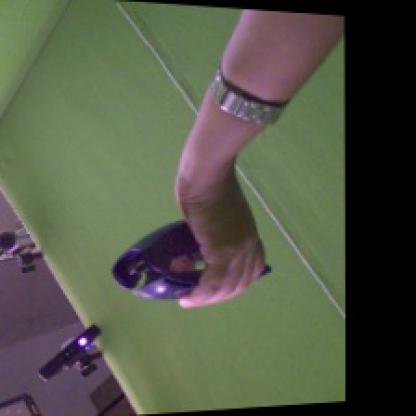Hand: (175, 157, 267, 310)
